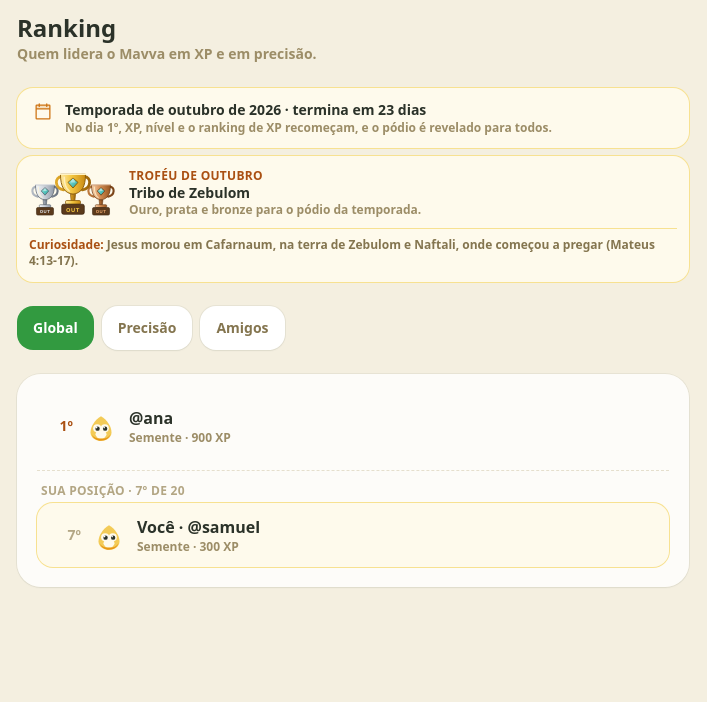
Test case: RankingPage › Precisão tab › lists the top players with their accuracy and answer count
Click the button "Precisão".
click(147, 328)  # box [102,306,192,350]
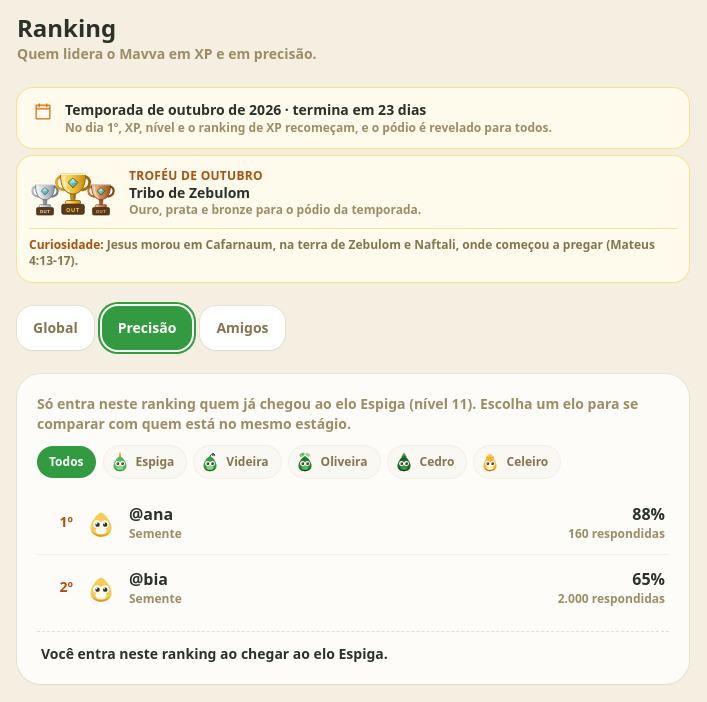
Expected: the text "Só entra neste ranking quem já chegou ao elo Espiga (nível 11)" is shown, [37,394,669,434]
Expected: the text "88%" is shown, [632,502,665,524]
Expected: the text "160 respondidas" is shown, [568,526,665,542]
